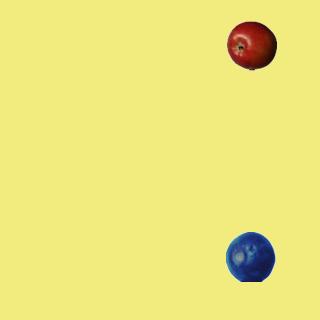Apple Braeburn: (226, 20, 276, 70)
Huckleberry: (225, 231, 275, 281)
